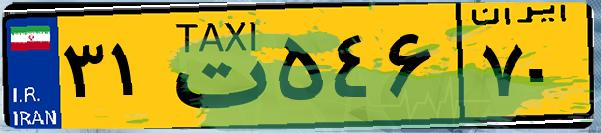0: (525, 38, 570, 115)
1: (110, 28, 158, 98)
3: (57, 26, 110, 100)
4: (330, 28, 385, 110)
5: (270, 28, 330, 110)
6: (385, 28, 445, 110)
7: (475, 38, 525, 113)
ت: (158, 12, 270, 120)
